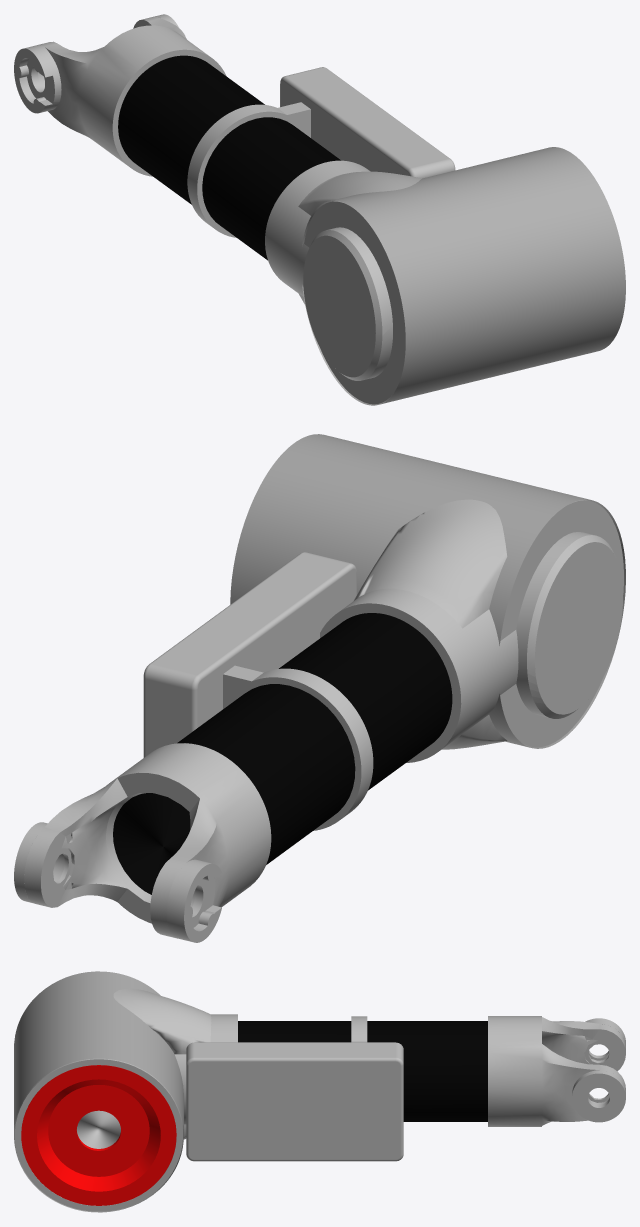
File: LegUpper_withCover.dae
3 views of the same model, one above another, from view 1: azimuth 30°, elevation 25°; view 2: azimuth 150°, elevation 25°; view 3: azimuth 270°, elevation 25° (orthographic). The views are drawn at different scales.
Parts seen in each view (by area): view 1: CoverMesh, object 11, DrivePlate, object 5, MotorDriverCase, Half, Clip, object 7, Barrel; view 2: object 11, CoverMesh, object 5, DrivePlate, MotorDriverCase, Barrel, Half, Clip, object 7, object 6; view 3: MotorDriverCase, object 10, CoverMesh, object 11, object 5, object 9, Barrel, object 6, Half, Clip, object 7.
Part boxes in pixels (x1,y1,x2,y2): CoverMesh: [302, 147, 625, 405]; object 11: [118, 55, 340, 260]; DrivePlate: [303, 201, 405, 404]; object 5: [38, 16, 226, 176]; MotorDriverCase: [280, 67, 455, 178]; Half: [265, 160, 370, 296]; Clip: [187, 102, 310, 237]; object 7: [14, 45, 61, 113]; Barrel: [298, 171, 422, 304]; object 11: [113, 613, 452, 894]; CoverMesh: [230, 434, 625, 748]; object 5: [24, 743, 271, 938]; DrivePlate: [500, 499, 623, 747]; MotorDriverCase: [143, 552, 356, 757]; Barrel: [354, 499, 507, 749]; Half: [320, 588, 518, 762]; Clip: [223, 665, 373, 830]; object 7: [166, 859, 221, 942]; object 6: [14, 822, 47, 903]; MotorDriverCase: [186, 1042, 403, 1161]; object 10: [21, 1065, 176, 1205]; CoverMesh: [14, 971, 183, 1212]; object 11: [238, 1021, 487, 1121]; object 5: [488, 1016, 625, 1126]; object 9: [14, 1058, 182, 1211]; Barrel: [113, 988, 211, 1139]; object 6: [572, 1070, 625, 1122]; Half: [174, 1014, 237, 1124]; Clip: [351, 1016, 367, 1042]; object 7: [585, 1018, 625, 1060].
Bounding box in the file's own units: 0.1384 × 0.3855 × 0.107.
